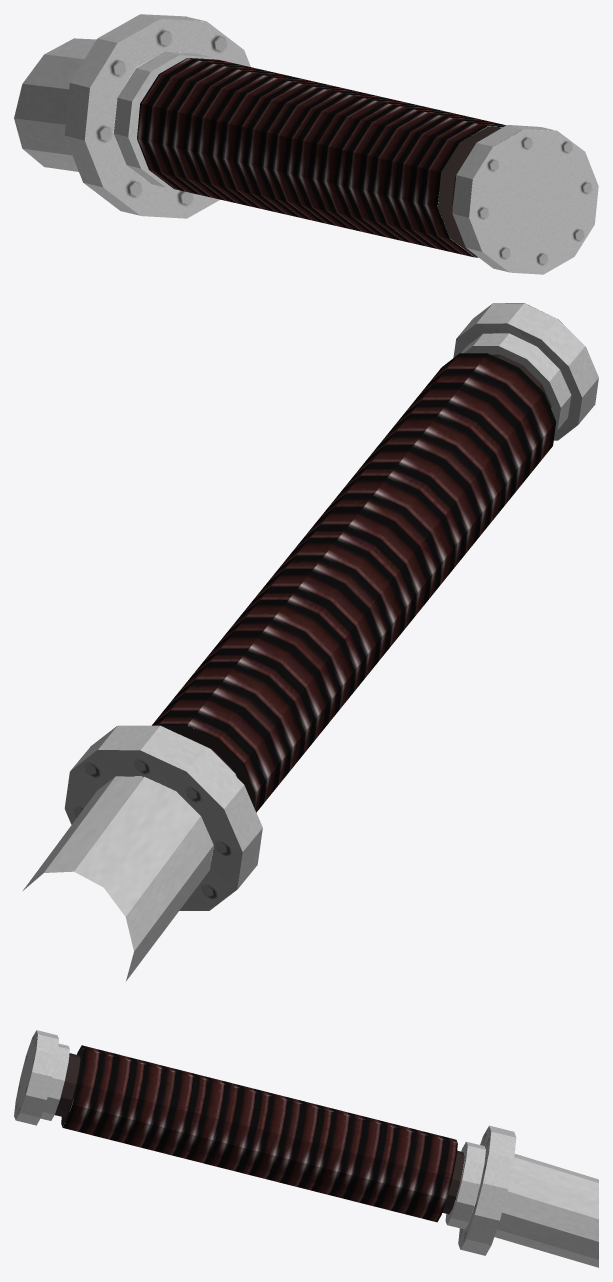
The model's file is jyxz006-geode.glb.
3 views of the same model, one above another, from view 1: azimuth 30°, elevation 25°; view 2: azimuth 150°, elevation 25°; view 3: azimuth 270°, elevation 25° (orthographic). The views are drawn at different scales.
Visible parts, largest first — view 1: Node; view 2: Node; view 3: Node.
Part boxes in pixels (bbox=[...]): Node: bbox=[14, 14, 598, 274]; Node: bbox=[23, 303, 598, 980]; Node: bbox=[14, 1030, 598, 1267].
Bounding box in the file's own units: 0.1359 × 0.2691 × 0.6208.
4 materials, 4 textured.
